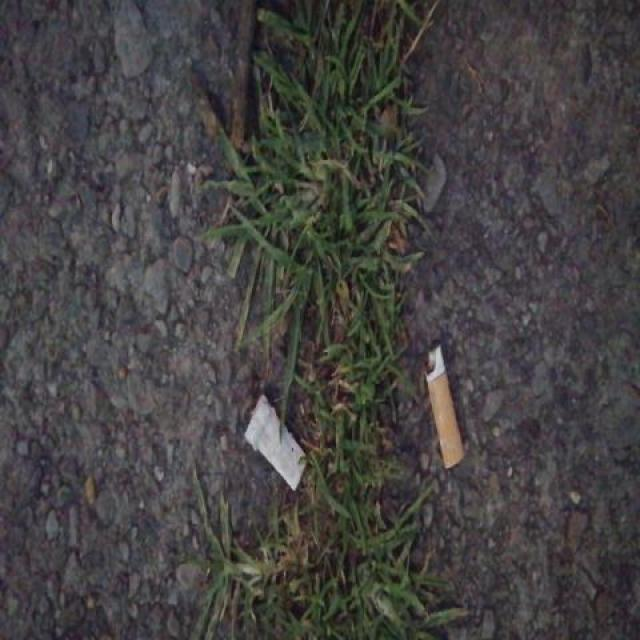non-organic waste: (240, 391, 312, 498), (422, 342, 469, 473)
